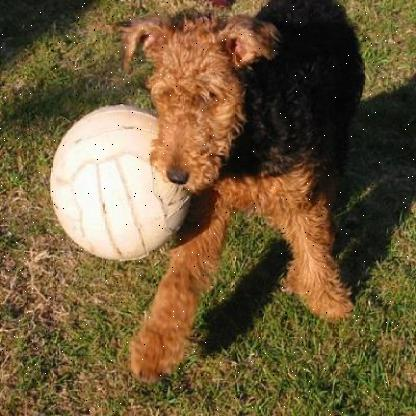dog: (114, 7, 394, 367)
